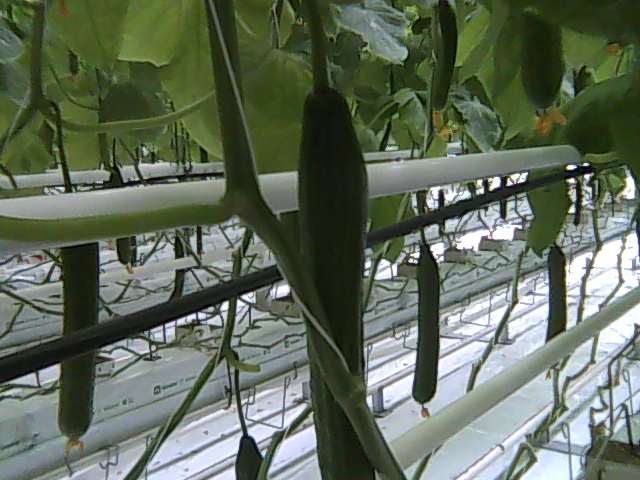concombre: (294, 75, 381, 480)
